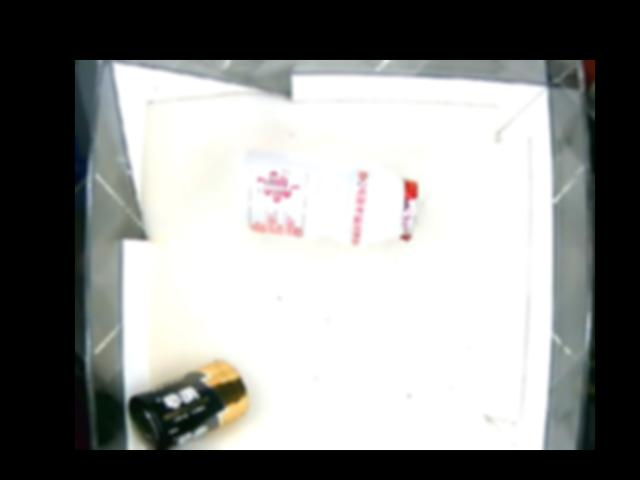Battery: (130, 356, 251, 450)
Bottle: (236, 147, 418, 249)
